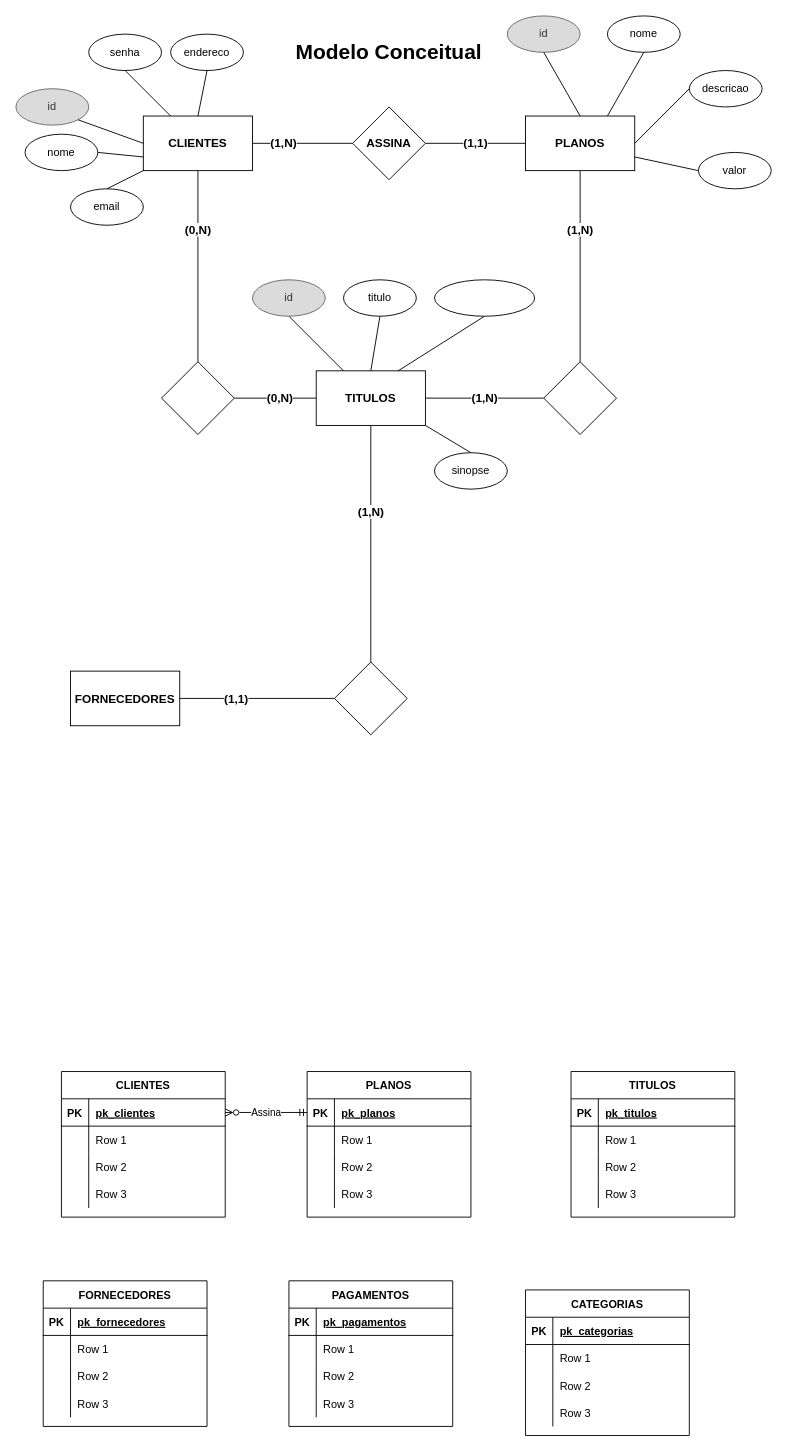
Image size: 787x1451. Some labels were removed from this diagram. Here are the shapes that lost their labels. From the top down, the box of each, then its label:
(434, 279, 535, 316): data_lancamento
(161, 361, 234, 435): ASSISTE
(543, 361, 617, 435): INCLUEM
(334, 661, 407, 735): POSSUEM
